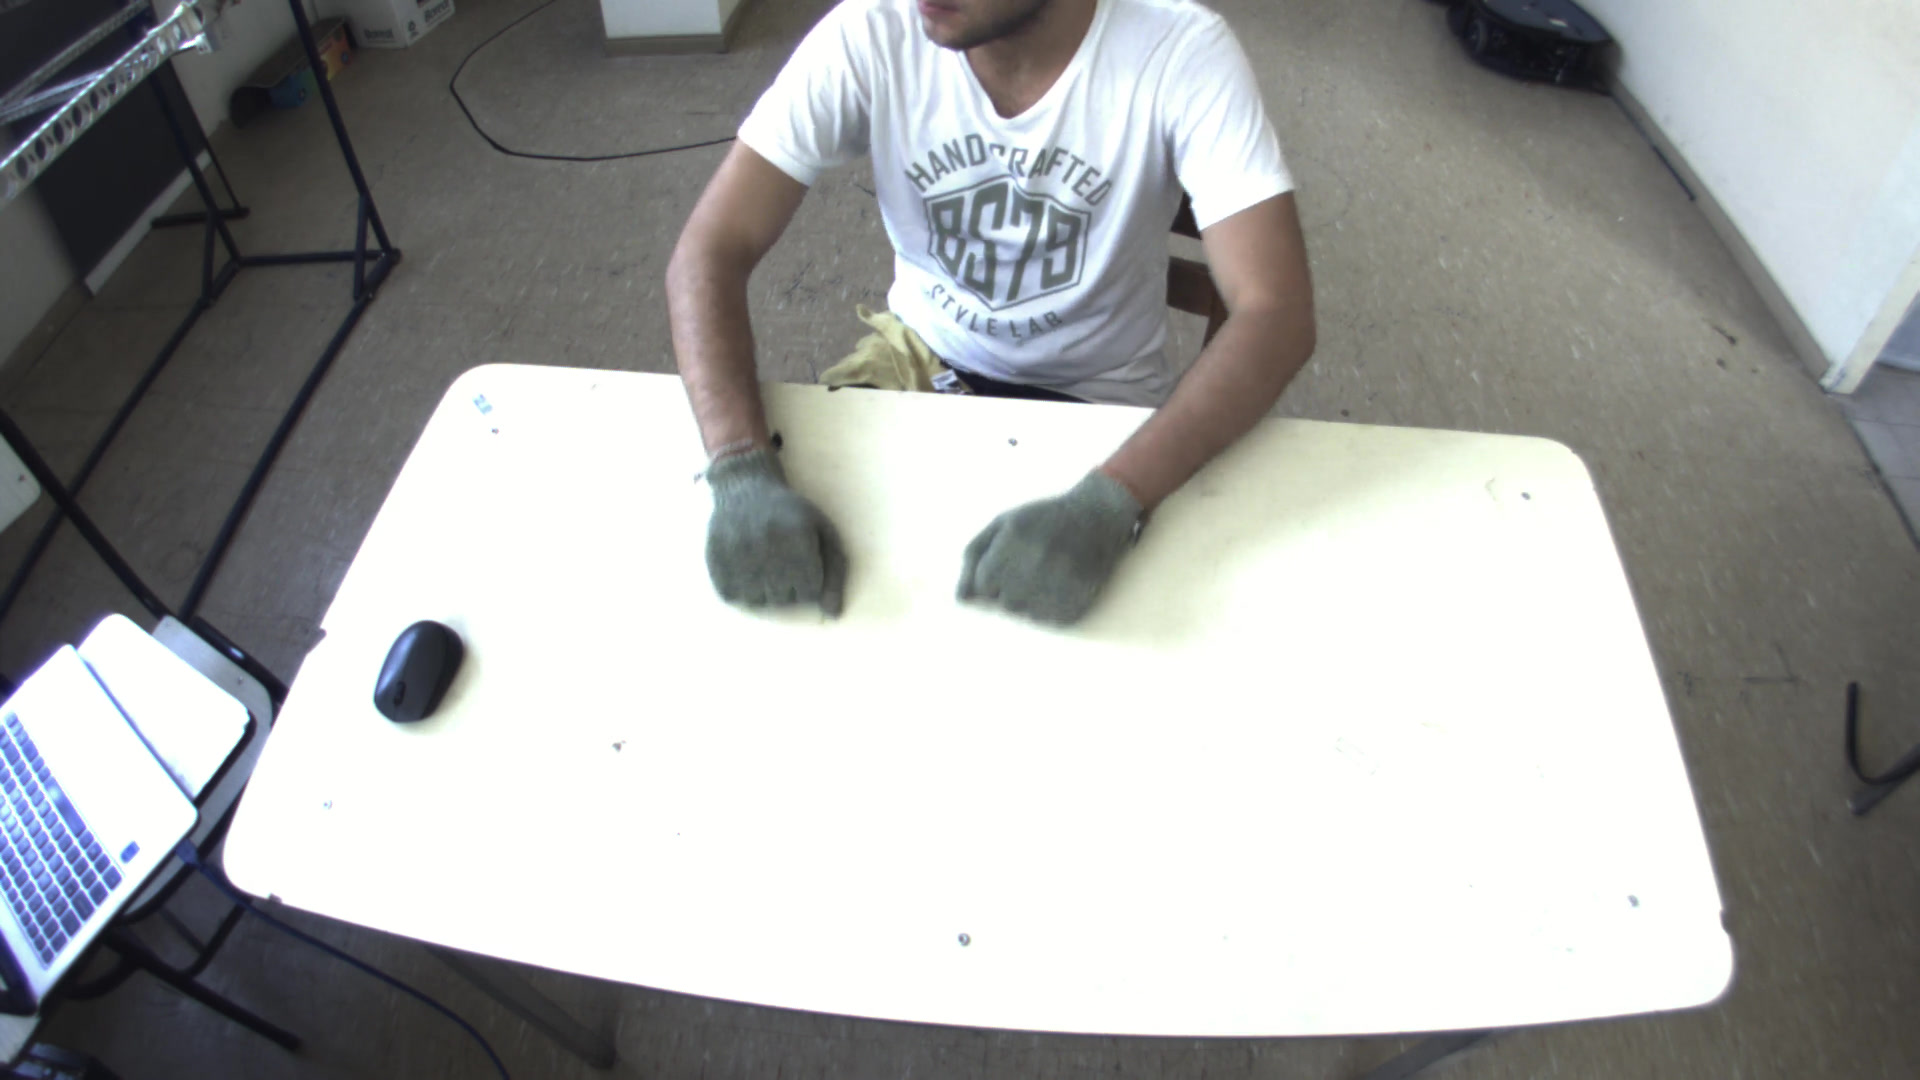hand: (951, 465, 1145, 632), (683, 430, 840, 617)
